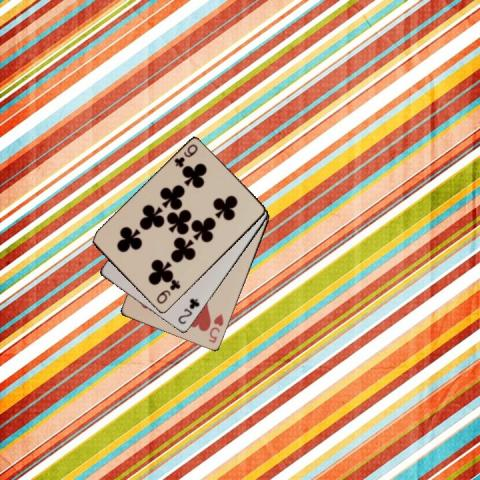2c: (176, 295, 202, 326)
5h: (206, 310, 226, 344)
9c: (172, 142, 200, 170), (153, 278, 182, 305)
